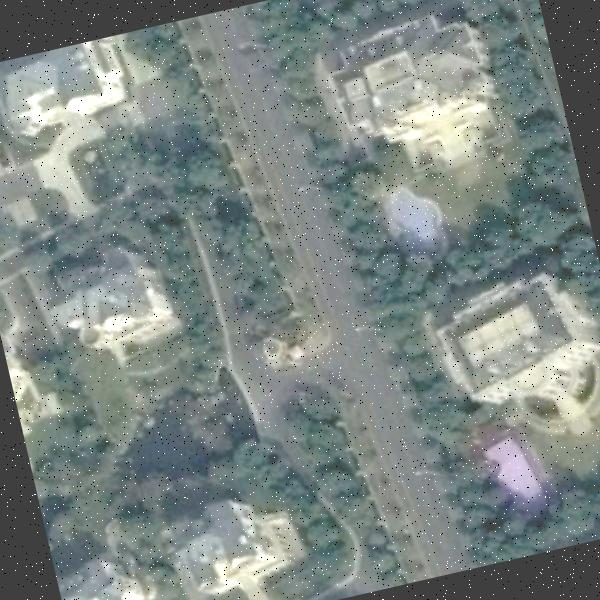Buildings: (349, 13, 501, 170), (439, 282, 600, 414), (47, 248, 186, 367), (0, 35, 134, 150), (167, 488, 302, 592), (56, 551, 166, 600)
